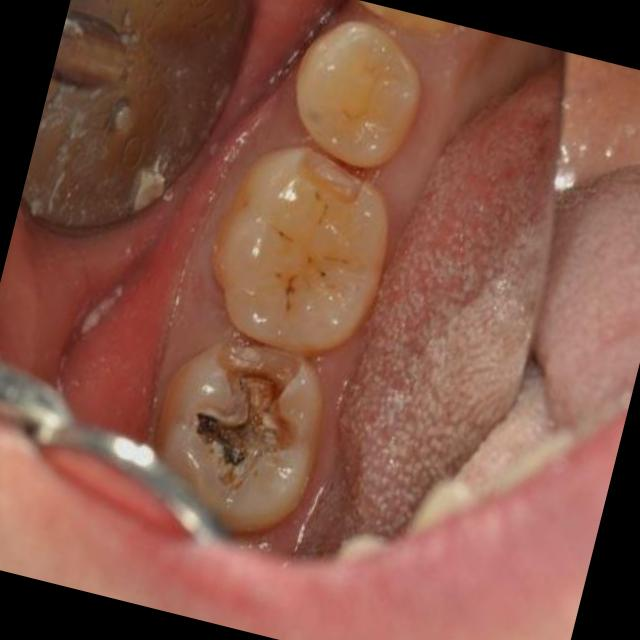Caries: (196, 412, 231, 445), (223, 447, 244, 465), (285, 277, 295, 294), (286, 300, 289, 312), (320, 272, 325, 277)
Cavity: (179, 338, 302, 503), (296, 150, 363, 204)
Tooth: (212, 146, 389, 352), (154, 339, 324, 532), (296, 21, 422, 168)
